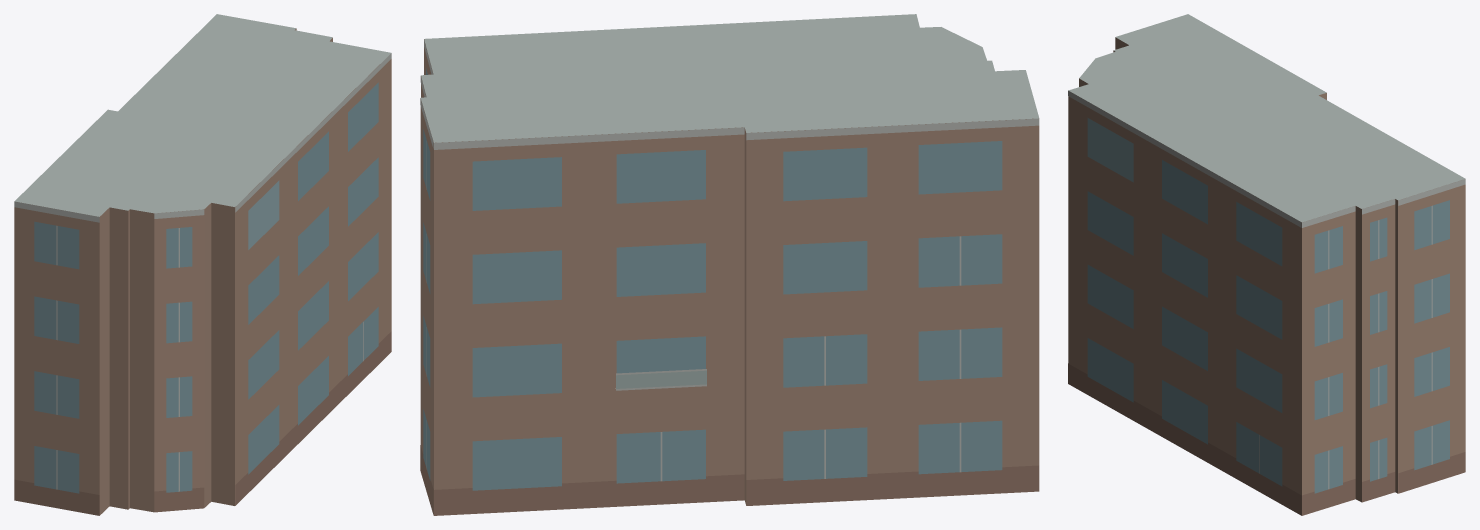
The model's file is survey-upis-32529341.glb.
3 views of the same model, side by side, from view 1: azimuth 30°, elevation 25°; view 2: azimuth 150°, elevation 25°; view 3: azimuth 270°, elevation 25° (orthographic). The views are drawn at different scales.
Parts seen in each view (by area): view 1: survey-upis-32529341.tmp; view 2: survey-upis-32529341.tmp; view 3: survey-upis-32529341.tmp.
Boxes of the visible parts, x1,y1,x2,y2 form: survey-upis-32529341.tmp: [14, 14, 391, 515]; survey-upis-32529341.tmp: [420, 14, 1039, 515]; survey-upis-32529341.tmp: [1068, 14, 1465, 515].
Bounding box in the file's own units: 19.28 × 12.65 × 15.54.
